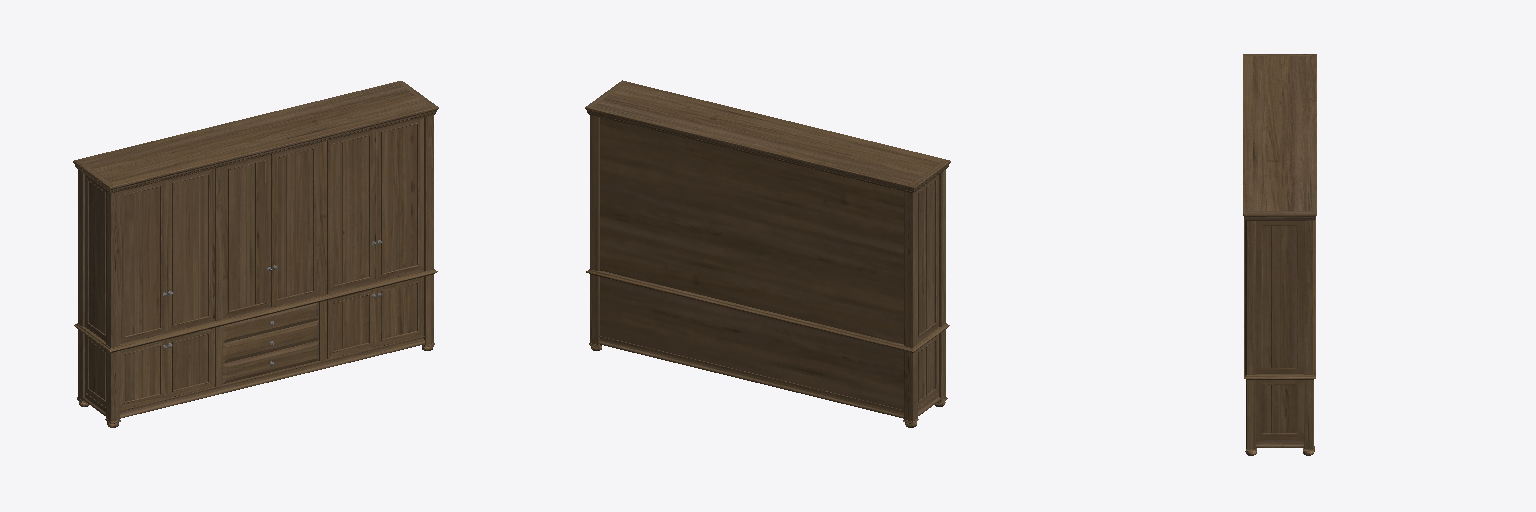
3 renders of one model, left to right at view 1: azimuth 30°, elevation 25°; view 2: azimuth 150°, elevation 25°; view 3: azimuth 270°, elevation 25°, orthographic.
Parts seen in each view (by area): view 1: solid_003, solid_002; view 2: solid_003; view 3: solid_003.
Part boxes in pixels (x1,y1,x2,y2): solid_003: (73,81,438,421); solid_002: (105,123,434,427); solid_003: (585,80,950,427); solid_003: (1243,54,1316,448).
Size of the model in its own units: 1.65 by 1.17 by 0.321.
1 materials, 1 textured.